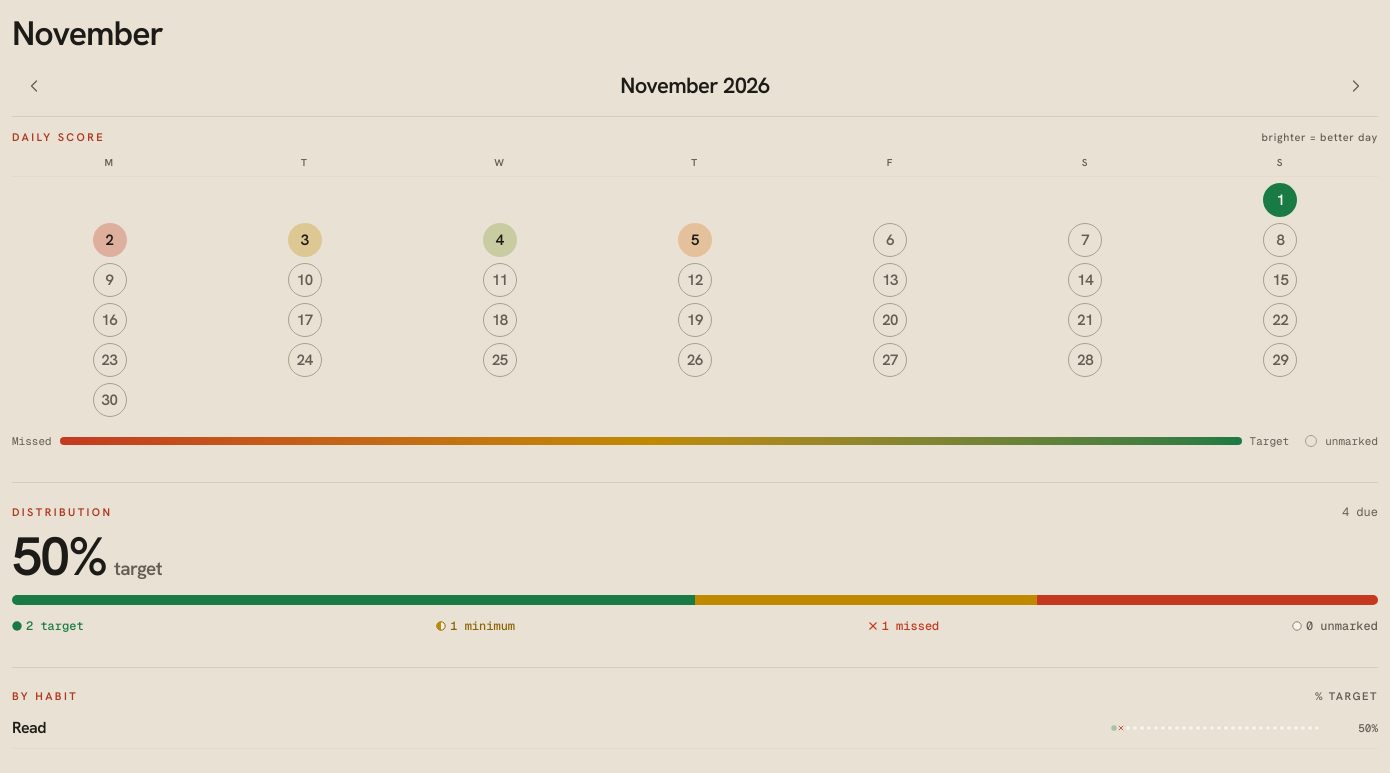
it: MonthPanel › moves between months
Click the button named "Next month" at point(1356, 86), box [1334,64,1378,108]
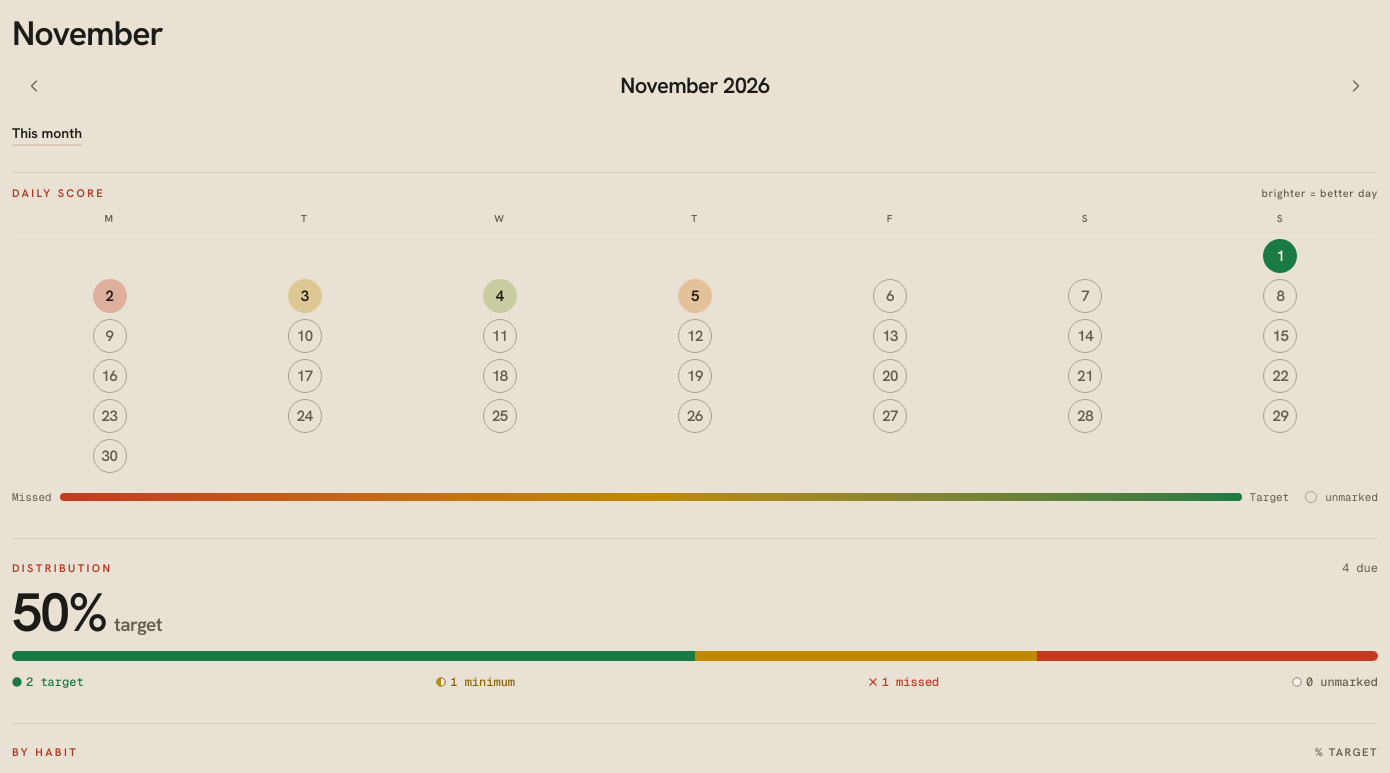
Result: the button "This month" is shown at [12,112,82,156]
